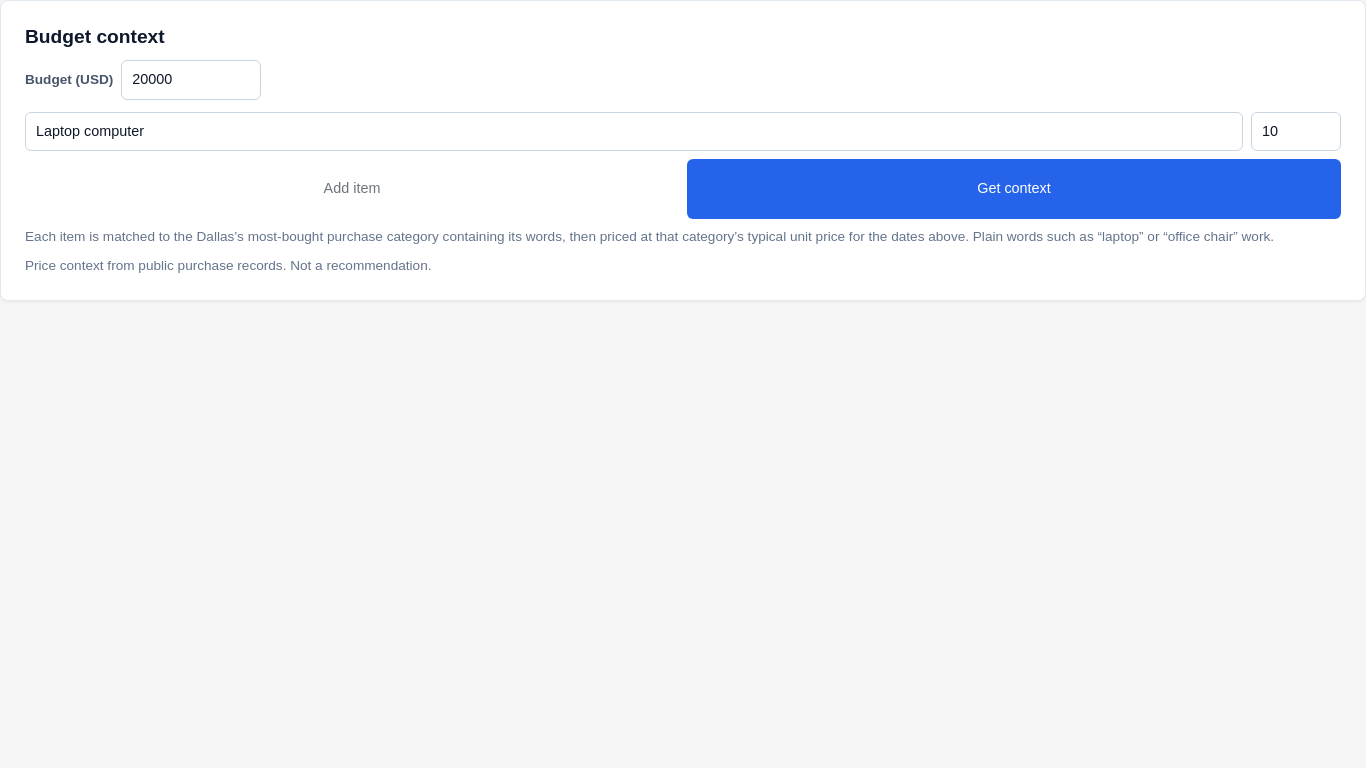
Test case: BudgetContextPanel › shows the data service message for a government without unit prices
The image size is (1366, 768).
Click the button "Get context": (1014, 189) x1=687 y1=159 x2=1341 y2=219
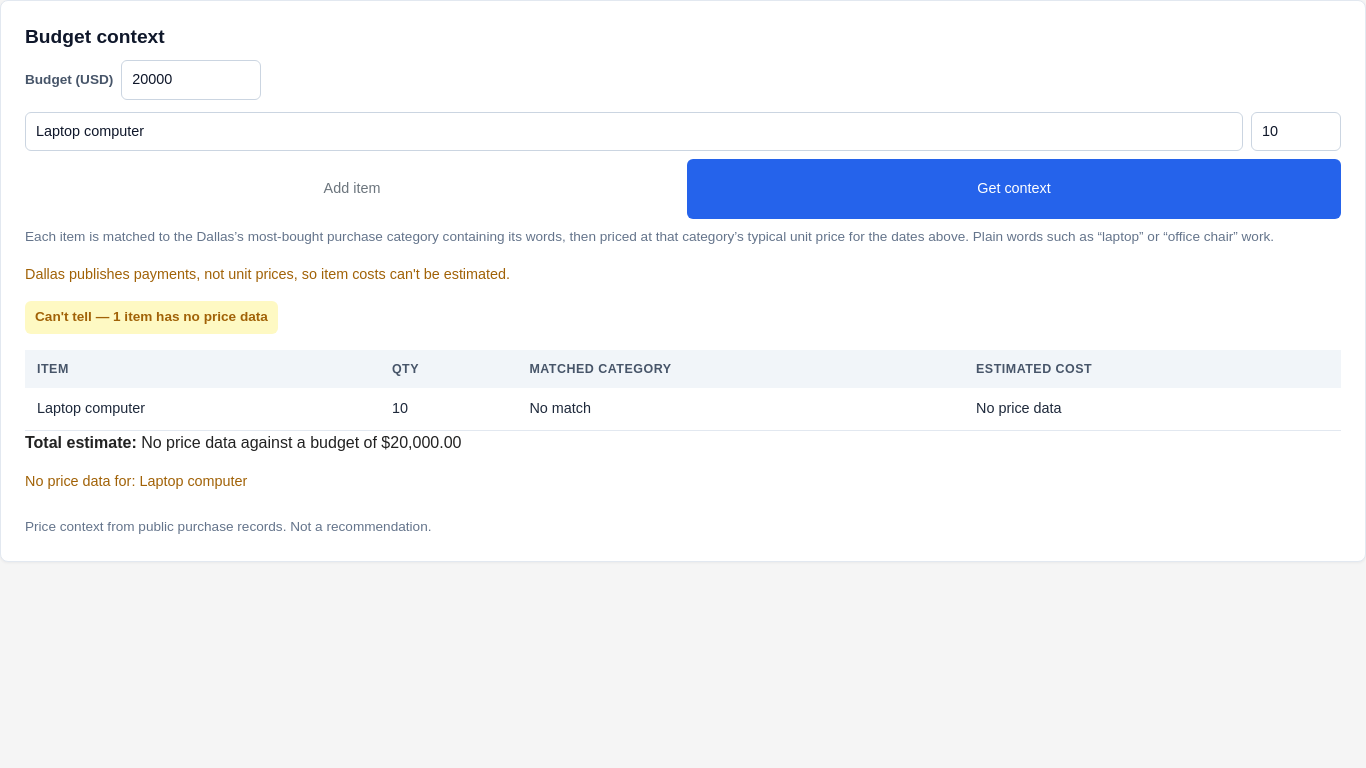
expect the text "Dallas publishes payments, not unit prices" is shown: met, box x1=25 y1=266 x2=510 y2=282
